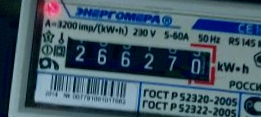0: (188, 55, 201, 76)
2: (72, 42, 88, 64), (141, 51, 155, 72)
6: (118, 48, 132, 68), (95, 46, 108, 67)
7: (164, 53, 178, 73)
screen: (50, 23, 228, 95)
